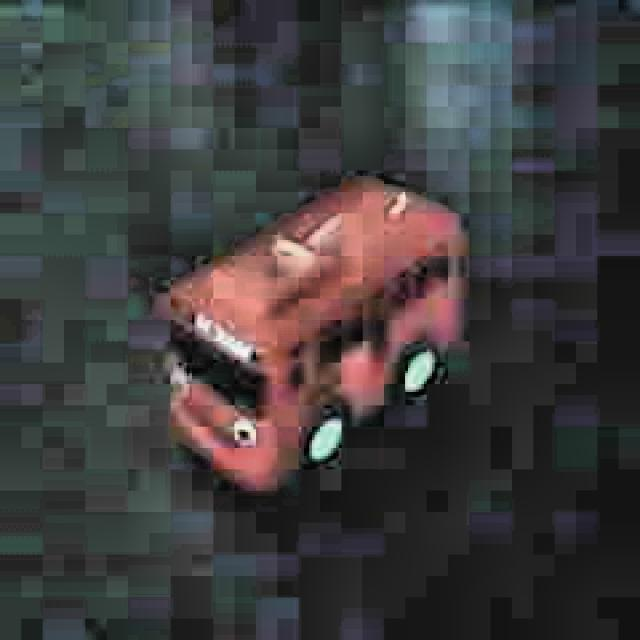bus: (159, 172, 469, 494)
